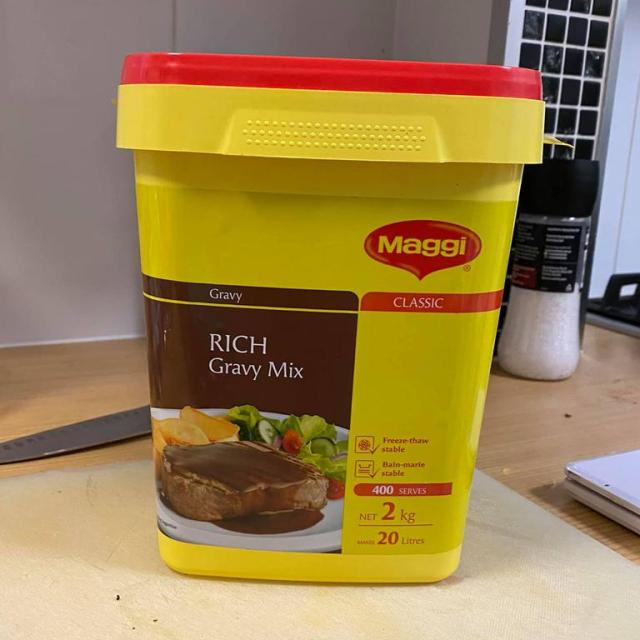plastic: (118, 46, 543, 588)
